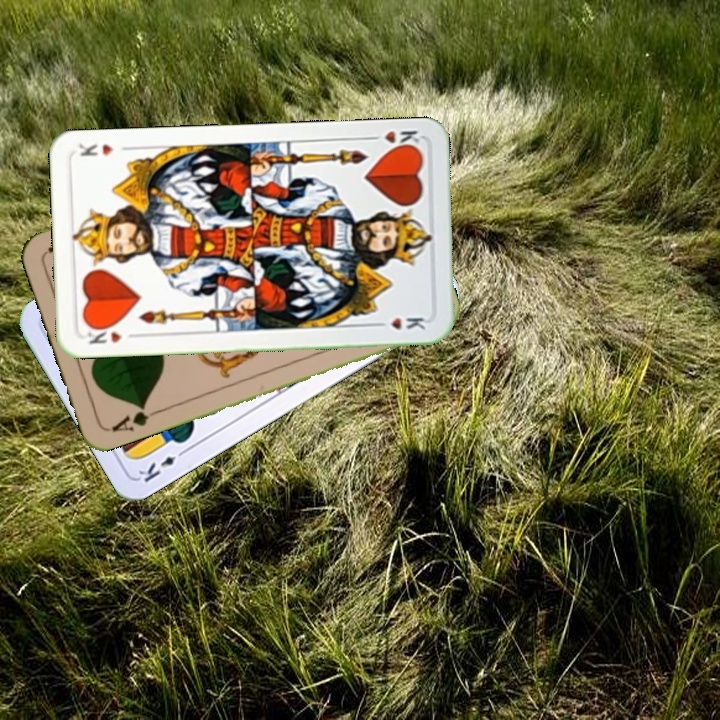EK: (134, 444, 190, 485)
GA: (107, 400, 163, 435)
HK: (364, 126, 423, 153), (82, 321, 140, 347)
